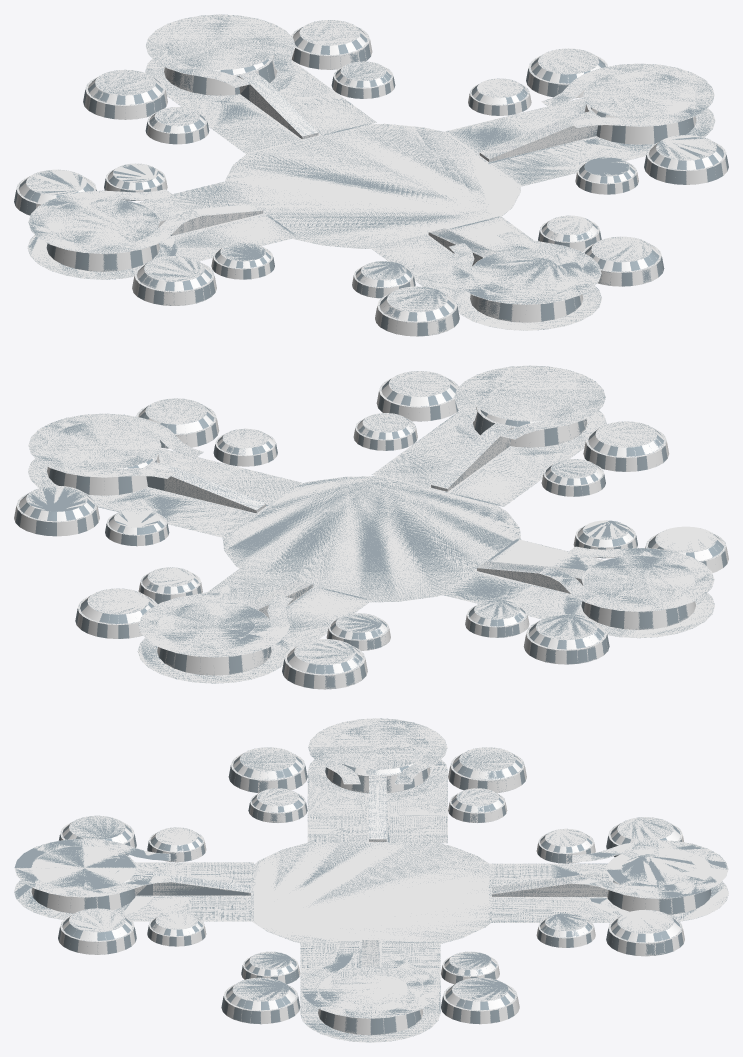
Rendered from palace.obj.
3 renders of one model, top to bottom at view 1: azimuth 30°, elevation 25°; view 2: azimuth 150°, elevation 25°; view 3: azimuth 270°, elevation 25°, orthographic. The views are drawn at different scales.
Visible parts, largest first — view 1: Mesh37 Model, Mesh15 Group9 Group_5_2 Model, Mesh6 Group1 Group_5_1 Model, Mesh24 Group17 Group_5_3 Model, Mesh33 Group25 Group_5_4 Model, Mesh18 Group_5_2 Model, Mesh9 Group_5_1 Model, Mesh27 Group_5_3 Model, Mesh36 Group_5_4 Model, Mesh31 Group29 Group25 Group_5_4 Model, Mesh22 Group21 Group17 Group_5_3 Model, Mesh4 Group5 Group1 Group_5_1 Model (+17 smaller); view 2: Mesh37 Model, Mesh33 Group25 Group_5_4 Model, Mesh6 Group1 Group_5_1 Model, Mesh24 Group17 Group_5_3 Model, Mesh15 Group9 Group_5_2 Model, Mesh18 Group_5_2 Model, Mesh27 Group_5_3 Model, Mesh9 Group_5_1 Model, Mesh36 Group_5_4 Model, Mesh31 Group29 Group25 Group_5_4 Model, Mesh4 Group5 Group1 Group_5_1 Model, Mesh22 Group21 Group17 Group_5_3 Model (+17 smaller); view 3: Mesh37 Model, Mesh24 Group17 Group_5_3 Model, Mesh15 Group9 Group_5_2 Model, Mesh33 Group25 Group_5_4 Model, Mesh36 Group_5_4 Model, Mesh6 Group1 Group_5_1 Model, Mesh27 Group_5_3 Model, Mesh18 Group_5_2 Model, Mesh9 Group_5_1 Model, Mesh4 Group5 Group1 Group_5_1 Model, Mesh22 Group21 Group17 Group_5_3 Model, Mesh13 Group13 Group9 Group_5_2 Model (+17 smaller).
Part boxes in pixels (box(x1,y1,x2,y2)): Mesh37 Model: box(224, 123, 520, 248); Mesh15 Group9 Group_5_2 Model: box(145, 53, 376, 154); Mesh6 Group1 Group_5_1 Model: box(444, 97, 715, 186); Mesh24 Group17 Group_5_3 Model: box(27, 182, 298, 279); Mesh33 Group25 Group_5_4 Model: box(370, 216, 601, 330); Mesh18 Group_5_2 Model: box(145, 14, 295, 76); Mesh9 Group_5_1 Model: box(567, 63, 714, 126); Mesh27 Group_5_3 Model: box(28, 190, 175, 253); Mesh36 Group_5_4 Model: box(451, 242, 601, 304); Mesh31 Group29 Group25 Group_5_4 Model: box(470, 256, 583, 322); Mesh22 Group21 Group17 Group_5_3 Model: box(46, 205, 159, 271); Mesh4 Group5 Group1 Group_5_1 Model: box(584, 78, 696, 144); Mesh37 Model: box(222, 476, 521, 602); Mesh33 Group25 Group_5_4 Model: box(372, 404, 606, 506); Mesh6 Group1 Group_5_1 Model: box(28, 448, 301, 538); Mesh24 Group17 Group_5_3 Model: box(441, 539, 714, 638); Mesh15 Group9 Group_5_2 Model: box(137, 567, 372, 683); Mesh18 Group_5_2 Model: box(138, 594, 290, 657); Mesh27 Group_5_3 Model: box(565, 547, 714, 611); Mesh9 Group_5_1 Model: box(28, 413, 176, 477); Mesh36 Group_5_4 Model: box(454, 365, 605, 428); Mesh31 Group29 Group25 Group_5_4 Model: box(473, 380, 587, 447); Mesh4 Group5 Group1 Group_5_1 Model: box(47, 428, 159, 495); Mesh22 Group21 Group17 Group_5_3 Model: box(581, 562, 695, 629); Mesh37 Model: box(252, 842, 490, 943); Mesh24 Group17 Group_5_3 Model: box(307, 759, 448, 843); Mesh15 Group9 Group_5_2 Model: box(489, 863, 728, 922); Mesh33 Group25 Group_5_4 Model: box(14, 862, 253, 921); Mesh36 Group_5_4 Model: box(14, 838, 136, 897); Mesh6 Group1 Group_5_1 Model: box(300, 940, 440, 1042); Mesh27 Group_5_3 Model: box(308, 718, 447, 769); Mesh18 Group_5_2 Model: box(606, 840, 728, 898); Mesh9 Group_5_1 Model: box(301, 967, 440, 1018); Mesh4 Group5 Group1 Group_5_1 Model: box(318, 973, 422, 1035); Mesh22 Group21 Group17 Group_5_3 Model: box(325, 731, 430, 793); Mesh13 Group13 Group9 Group_5_2 Model: box(607, 853, 711, 914).
Size of the model in its own units: 2.73 by 0.1066 by 2.74.
